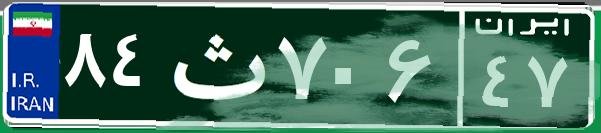0: (330, 28, 385, 110)
4: (475, 38, 525, 113), (110, 28, 158, 105)
6: (385, 28, 445, 110)
7: (273, 28, 330, 110), (525, 38, 570, 115)
8: (57, 26, 110, 107)
ث: (158, 15, 273, 115)
